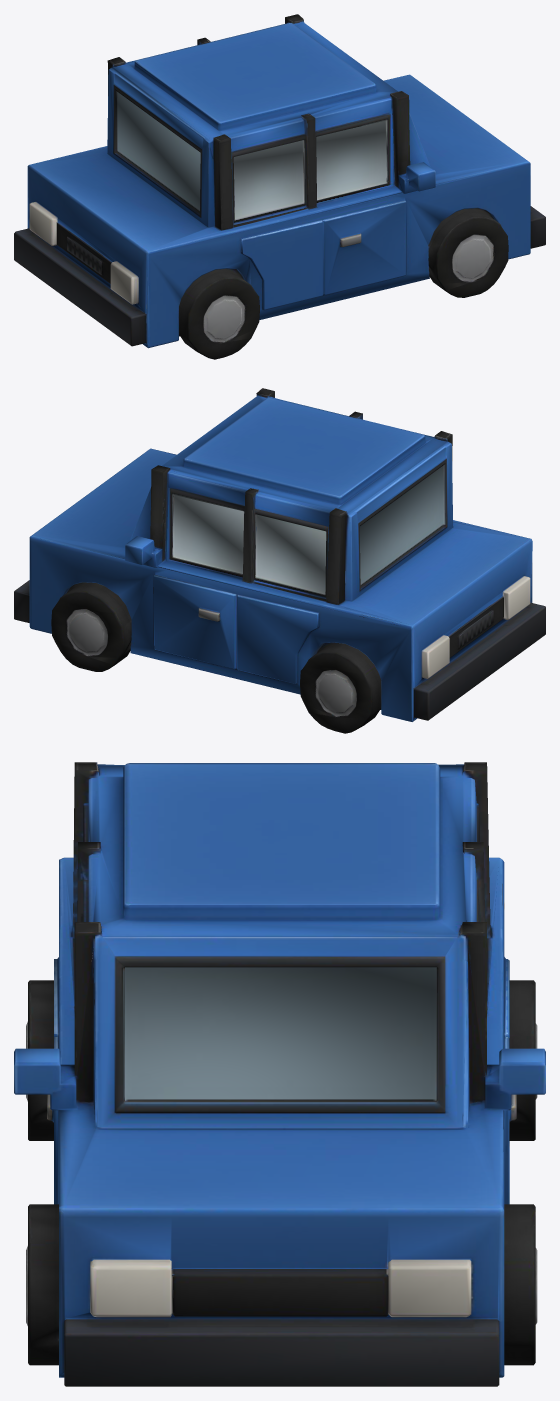
Rendered from cute-car-hatchback-tripo-original.glb.
The picture shows the model from 3 angles, top to bottom: view 1: azimuth 30°, elevation 25°; view 2: azimuth 150°, elevation 25°; view 3: azimuth 270°, elevation 25°; orthographic projection. The views are drawn at different scales.
Parts seen in each view (by area): view 1: tripo_node_9de63797-04ca-4f9a-95c3-5cad2e02bcfa; view 2: tripo_node_9de63797-04ca-4f9a-95c3-5cad2e02bcfa; view 3: tripo_node_9de63797-04ca-4f9a-95c3-5cad2e02bcfa.
Boxes of the visible parts, x1,y1,x2,y2 form: tripo_node_9de63797-04ca-4f9a-95c3-5cad2e02bcfa: (14, 14, 545, 359); tripo_node_9de63797-04ca-4f9a-95c3-5cad2e02bcfa: (14, 388, 545, 733); tripo_node_9de63797-04ca-4f9a-95c3-5cad2e02bcfa: (14, 762, 545, 1386).
Bounding box in the file's own units: 1 × 0.4853 × 0.6008.
1 material, 1 textured.
